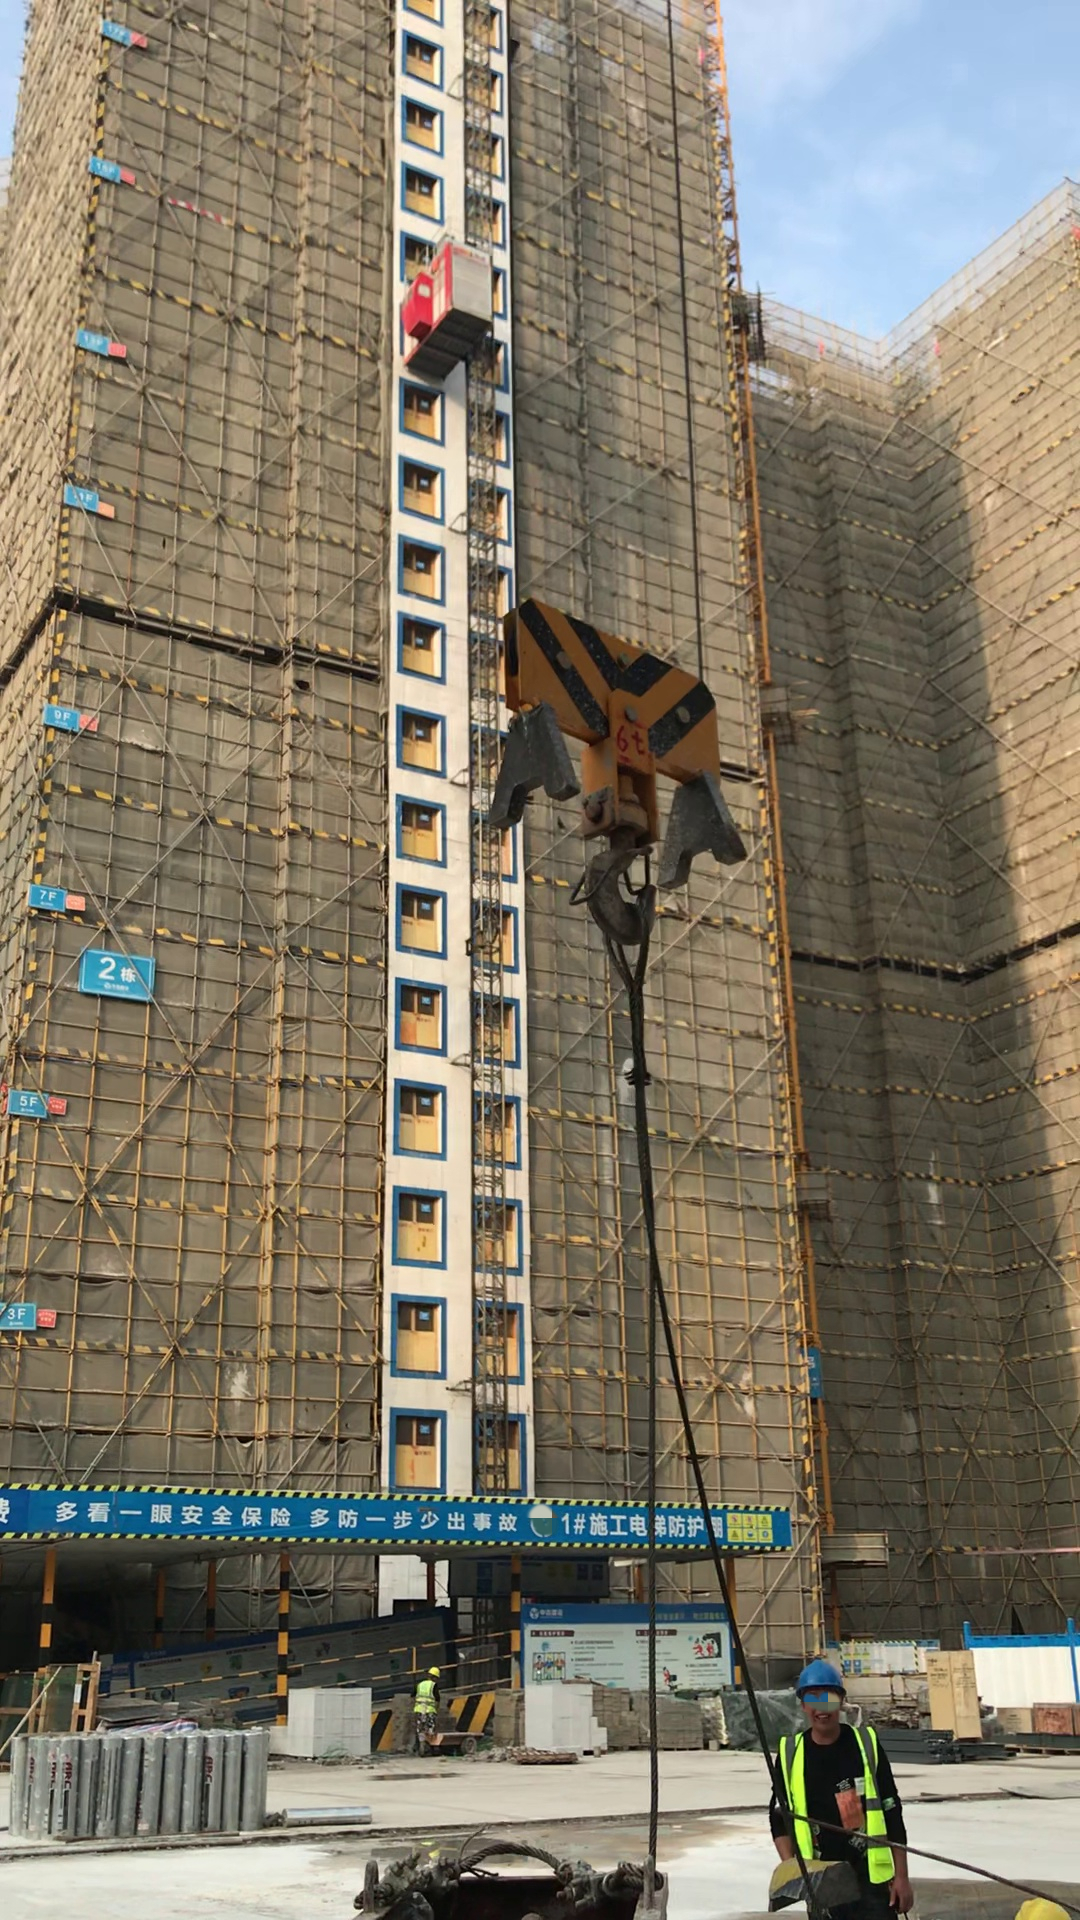helmet: (790, 1659, 849, 1696), (428, 1666, 442, 1678)
hook: (489, 609, 764, 945)
person: (745, 1653, 955, 1919), (410, 1663, 453, 1758)
slogan: (11, 1482, 774, 1553)
vest: (772, 1736, 896, 1884), (416, 1682, 439, 1713)
